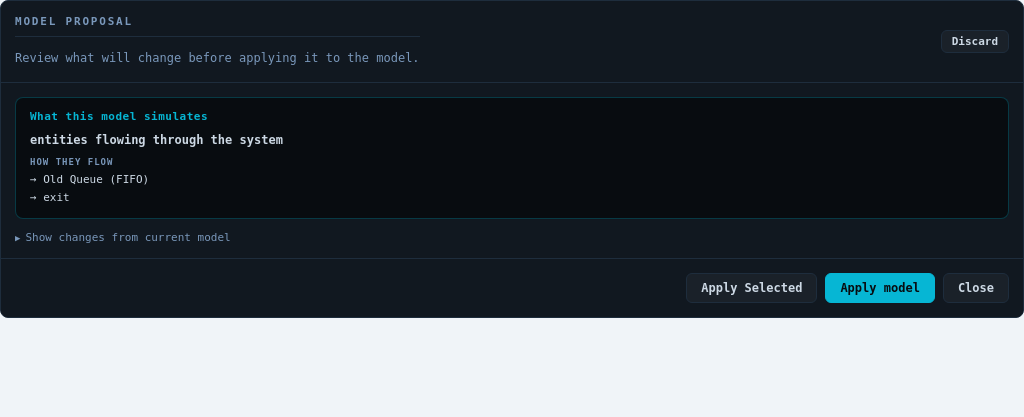
Test: ModelDiffPreview › can apply invalid proposals as editable drafts when allowed
This screenshot has width=1024, height=417.
What coordinates should you click on to do the following:
click the button "Apply model"
I would click on:
 (880, 288)
Its box is [825,273,935,303].
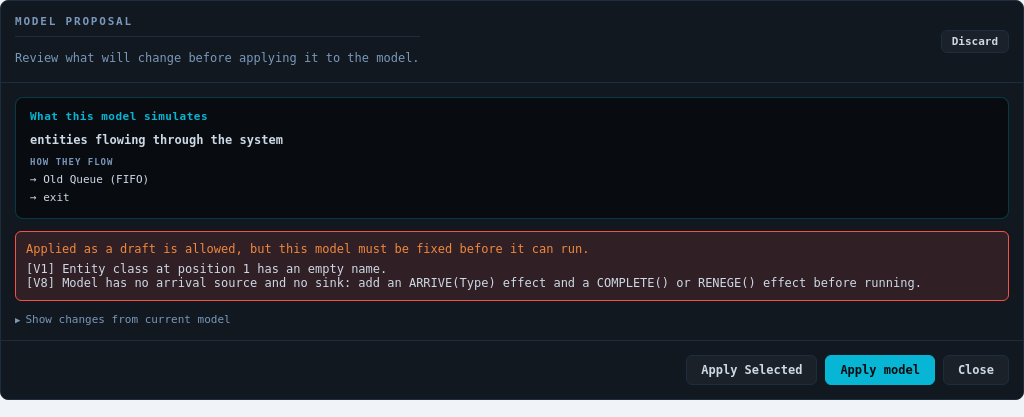
Result: the message shows "Applied as a draft" at [26,242,590,256]
